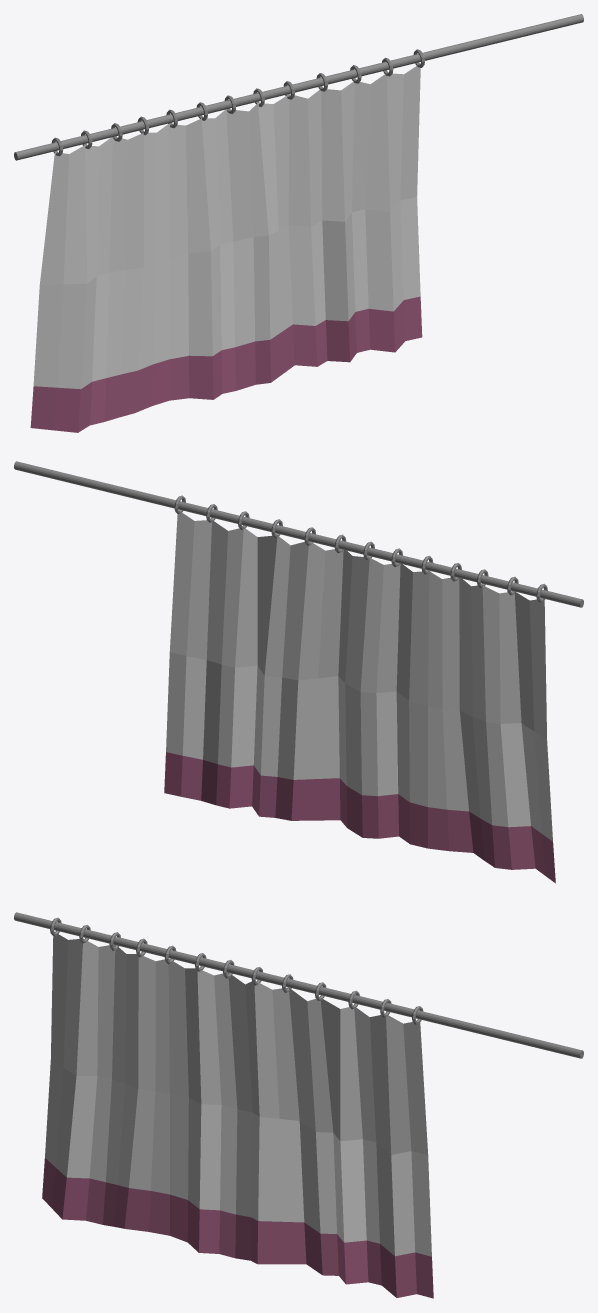
The model's file is Corina Baño Grande.fbx.
3 renders of one model, top to bottom at view 1: azimuth 30°, elevation 25°; view 2: azimuth 150°, elevation 25°; view 3: azimuth 330°, elevation 25°, orthographic.
Visible parts, largest first — view 1: Cortina pieza chico.002; view 2: Cortina pieza chico.002; view 3: Cortina pieza chico.002.
Boxes of the visible parts, box(x1,y1,x2,y2) form: Cortina pieza chico.002: box(14, 14, 583, 432); Cortina pieza chico.002: box(14, 461, 583, 883); Cortina pieza chico.002: box(14, 912, 583, 1298).
Size of the model in its own units: 269 by 135 by 11.17.
